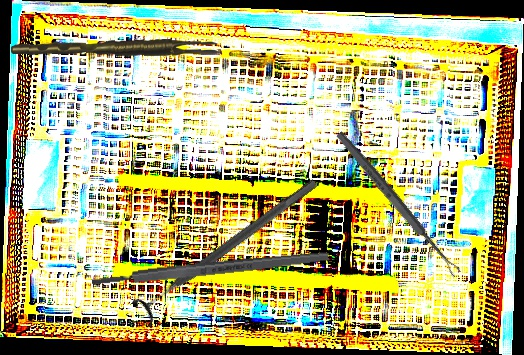Fixation Ring: (129, 168, 326, 329)
Scalpel Handle: (90, 249, 330, 289)
Surgical Spoon: (334, 129, 462, 279)
Tissue Forceps: (11, 33, 219, 62)
